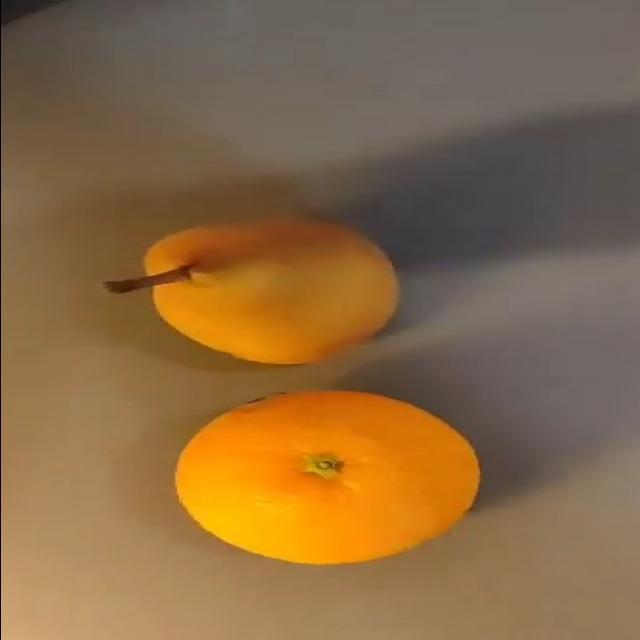Orange: (174, 388, 481, 565)
